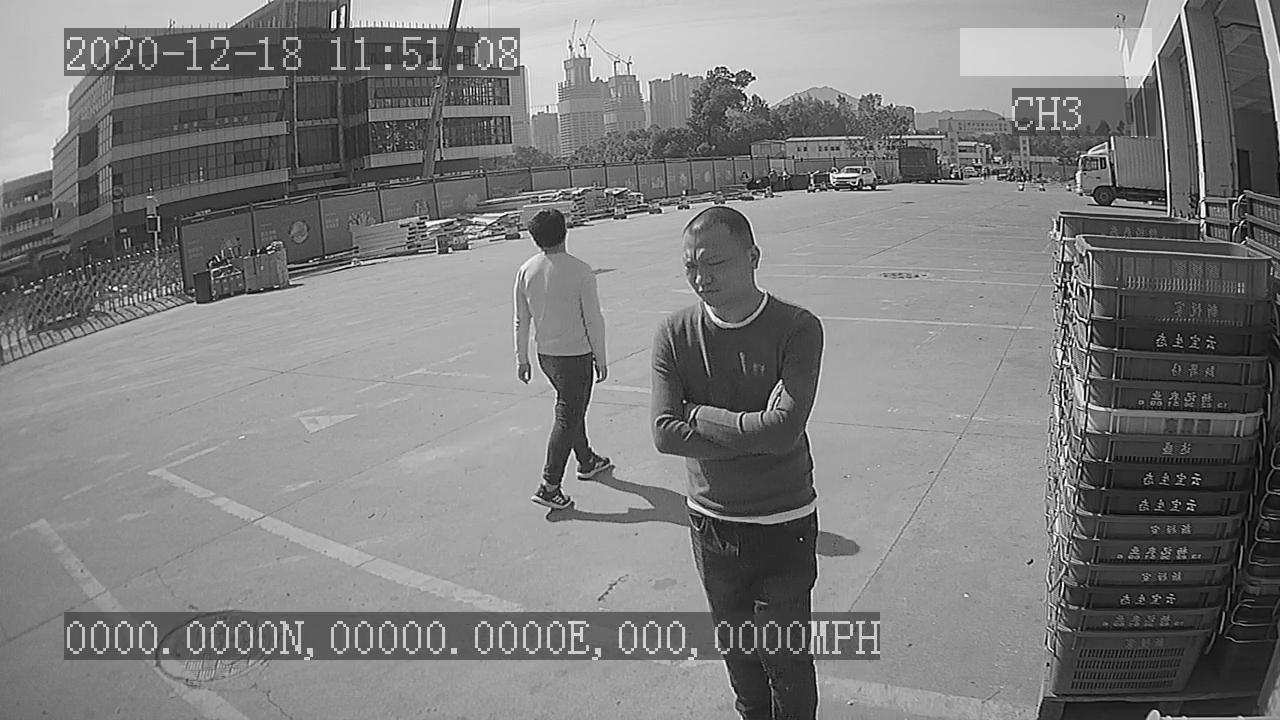person: (504, 202, 622, 520)
